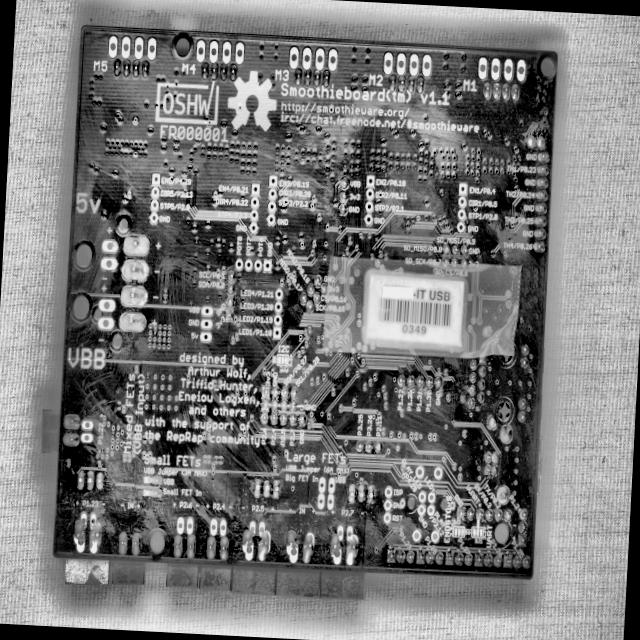PCB: (34, 22, 562, 616)
